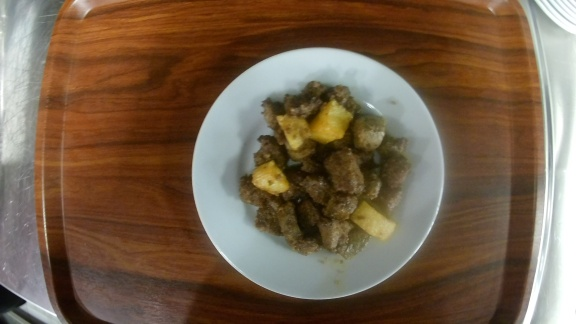arnavutcigeri: (189, 46, 446, 301)
